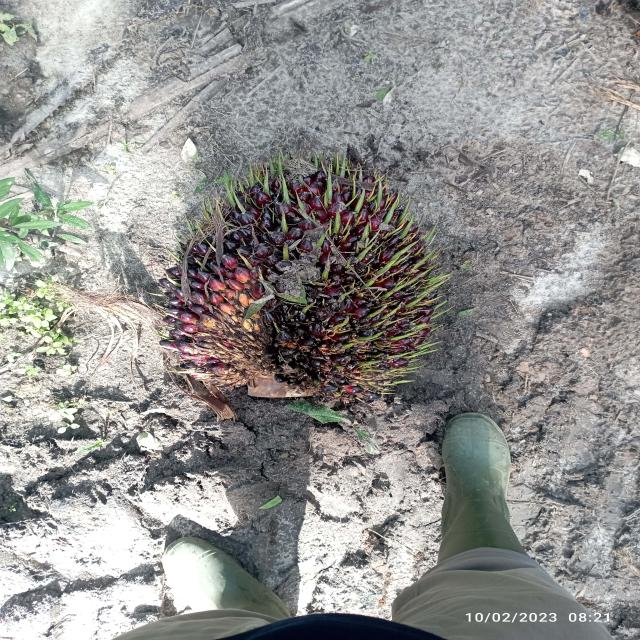fraksi 00: (169, 138, 458, 420)
